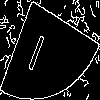I: (25, 24, 51, 72)
